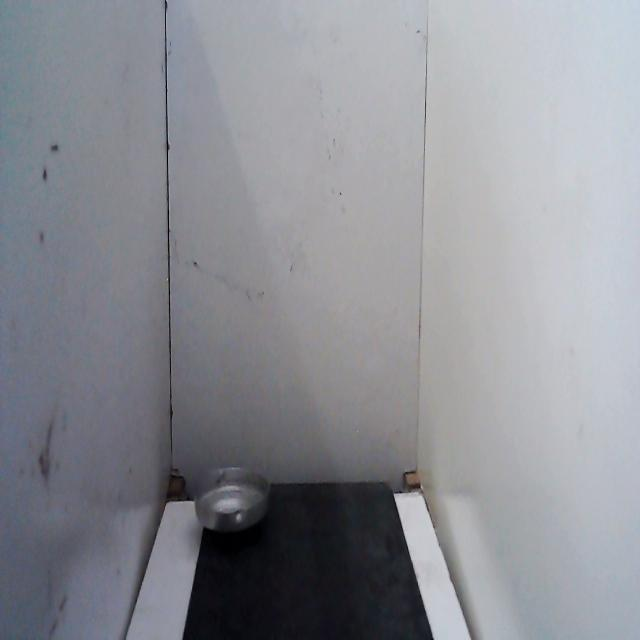metal: (187, 452, 275, 548)
